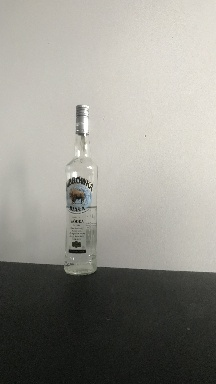butelka: (62, 101, 99, 278)
